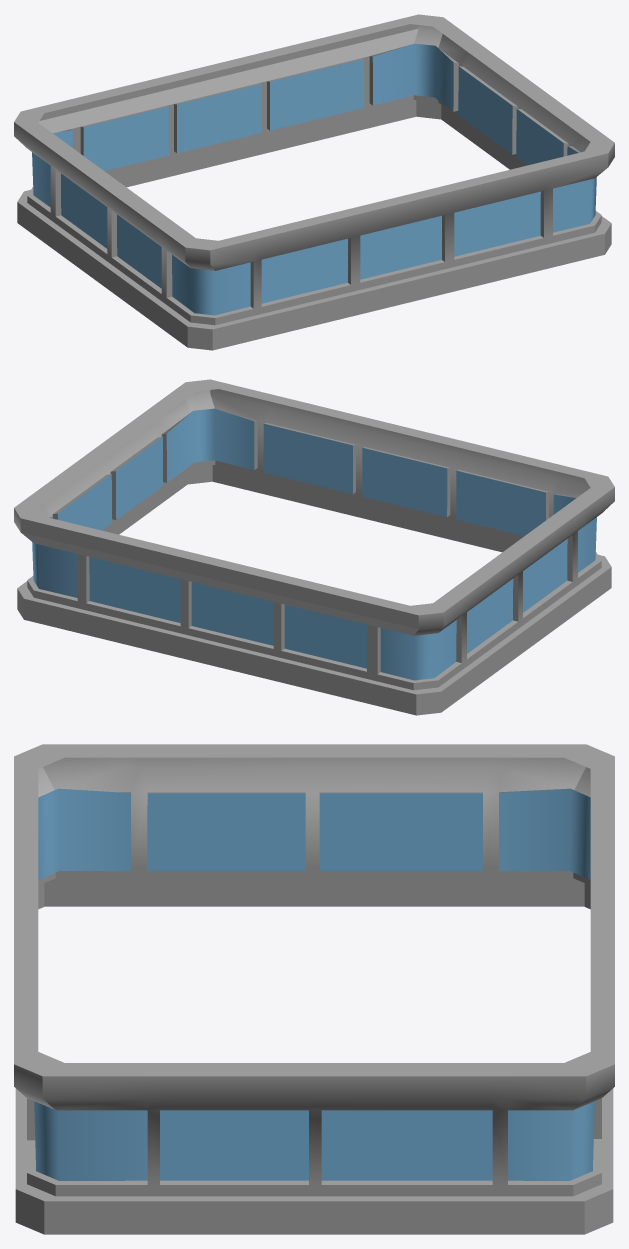
File: Floor_with_windows.fbx
3 renders of one model, top to bottom at view 1: azimuth 30°, elevation 25°; view 2: azimuth 150°, elevation 25°; view 3: azimuth 270°, elevation 25°, orthographic. The views are drawn at different scales.
Parts seen in each view (by area): view 1: FloorAllWindows, Windows; view 2: FloorAllWindows, Windows; view 3: FloorAllWindows, Windows.
Boxes of the visible parts, x1=… form: FloorAllWindows: x1=14, y1=14, x2=614, y2=350; Windows: x1=32, y1=43, x2=596, y2=315; FloorAllWindows: x1=14, y1=379, x2=614, y2=715; Windows: x1=32, y1=408, x2=596, y2=680; FloorAllWindows: x1=14, y1=744, x2=614, y2=1234; Windows: x1=34, y1=788, x2=594, y2=1180.
Size of the model in its own units: 1776 by 400 by 1358.
